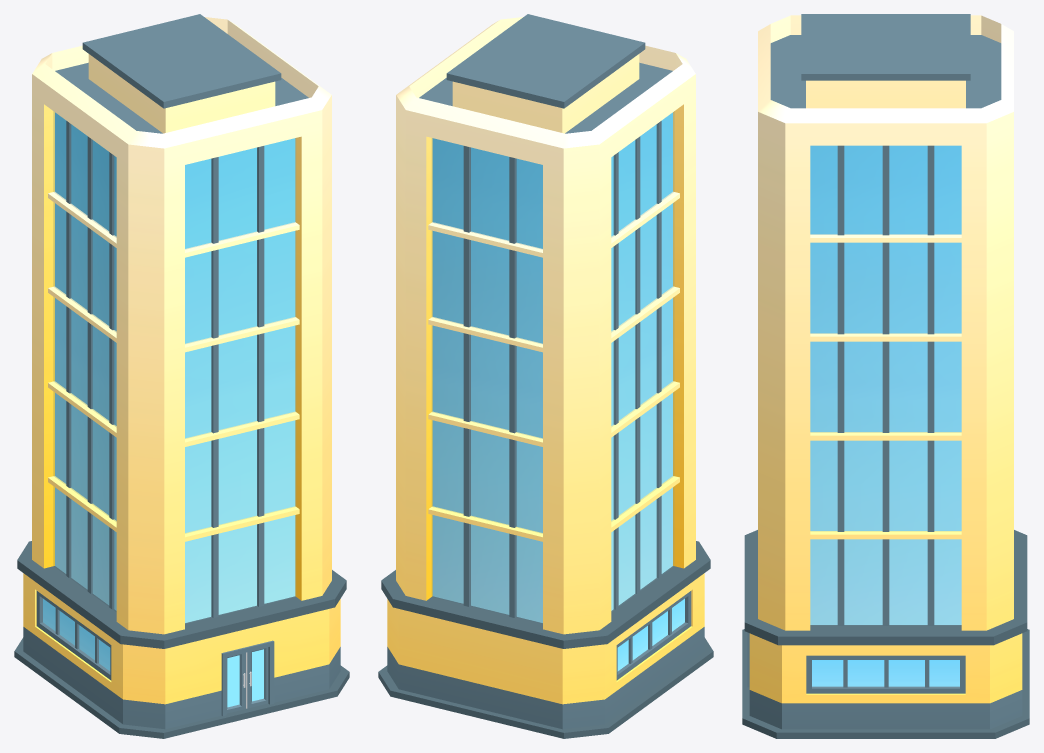
Rendered from city2-building-living-46.glb.
3 views of the same model, side by side, from view 1: azimuth 30°, elevation 25°; view 2: azimuth 150°, elevation 25°; view 3: azimuth 270°, elevation 25° (orthographic). The views are drawn at different scales.
Parts seen in each view (by area): view 1: Building_Living_46; view 2: Building_Living_46; view 3: Building_Living_46.
Part boxes in pixels (left/top/right/bottom): Building_Living_46: left=14, top=14, right=349, bottom=738; Building_Living_46: left=378, top=14, right=713, bottom=738; Building_Living_46: left=742, top=14, right=1029, bottom=738.
Size of the model in its own units: 8.92 by 22.58 by 9.23.
Materials: 2 (2 with a texture image).
